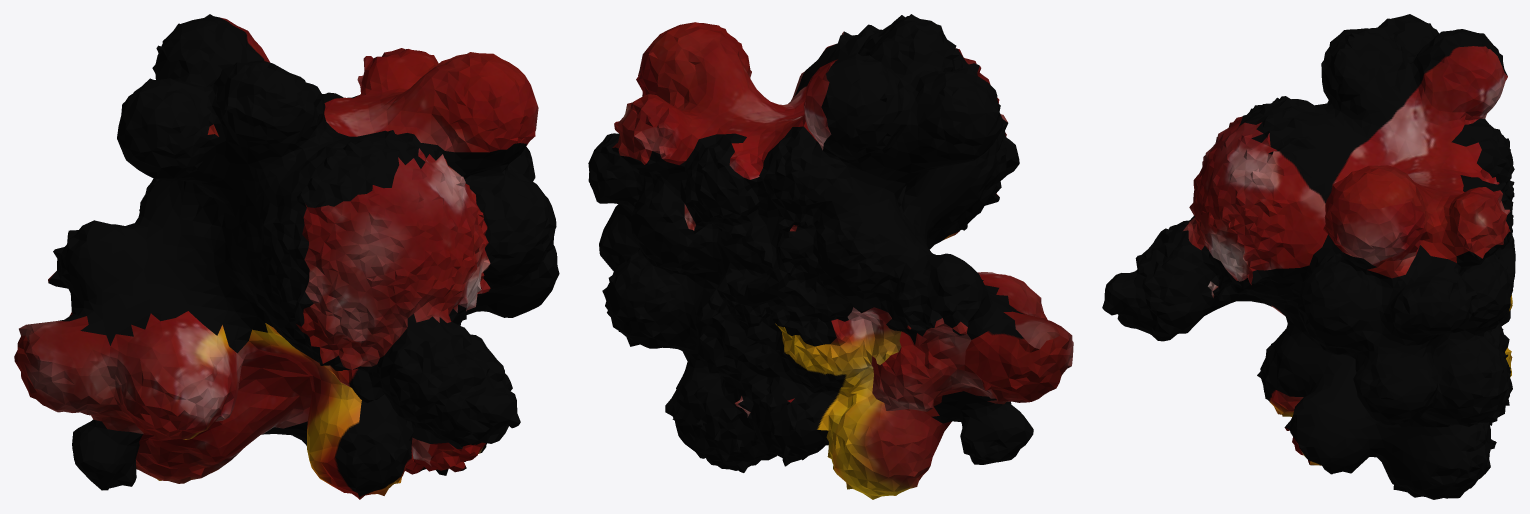
The picture shows the model from 3 angles, left to right: view 1: azimuth 30°, elevation 25°; view 2: azimuth 150°, elevation 25°; view 3: azimuth 270°, elevation 25°; orthographic projection. The views are drawn at different scales.
Parts seen in each view (by area): view 1: node; view 2: node; view 3: node.
Part boxes in pixels (x1=…): node: x1=14, y1=14, x2=559, y2=499; node: x1=588, y1=14, x2=1073, y2=499; node: x1=1102, y1=14, x2=1515, y2=499.
Size of the model in its own units: 0.0868 by 0.0774 by 0.0715.
